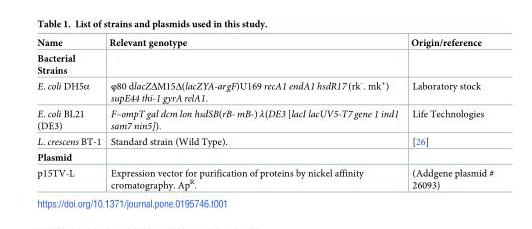table: (36, 37, 493, 190)
table column: (104, 37, 404, 190), (404, 37, 493, 190), (36, 37, 104, 190)
table column header: (36, 37, 493, 50)
table projected row header: (36, 50, 493, 76), (36, 149, 493, 165)
table row: (36, 76, 493, 105), (36, 105, 493, 133), (36, 50, 493, 76), (36, 165, 493, 190), (36, 133, 493, 149), (36, 149, 493, 165), (36, 37, 493, 50)
